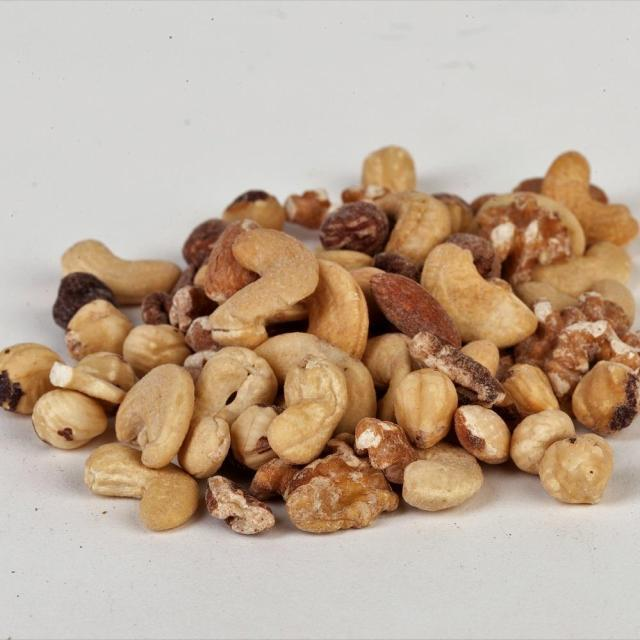Frutta secca: (28, 150, 634, 522)
